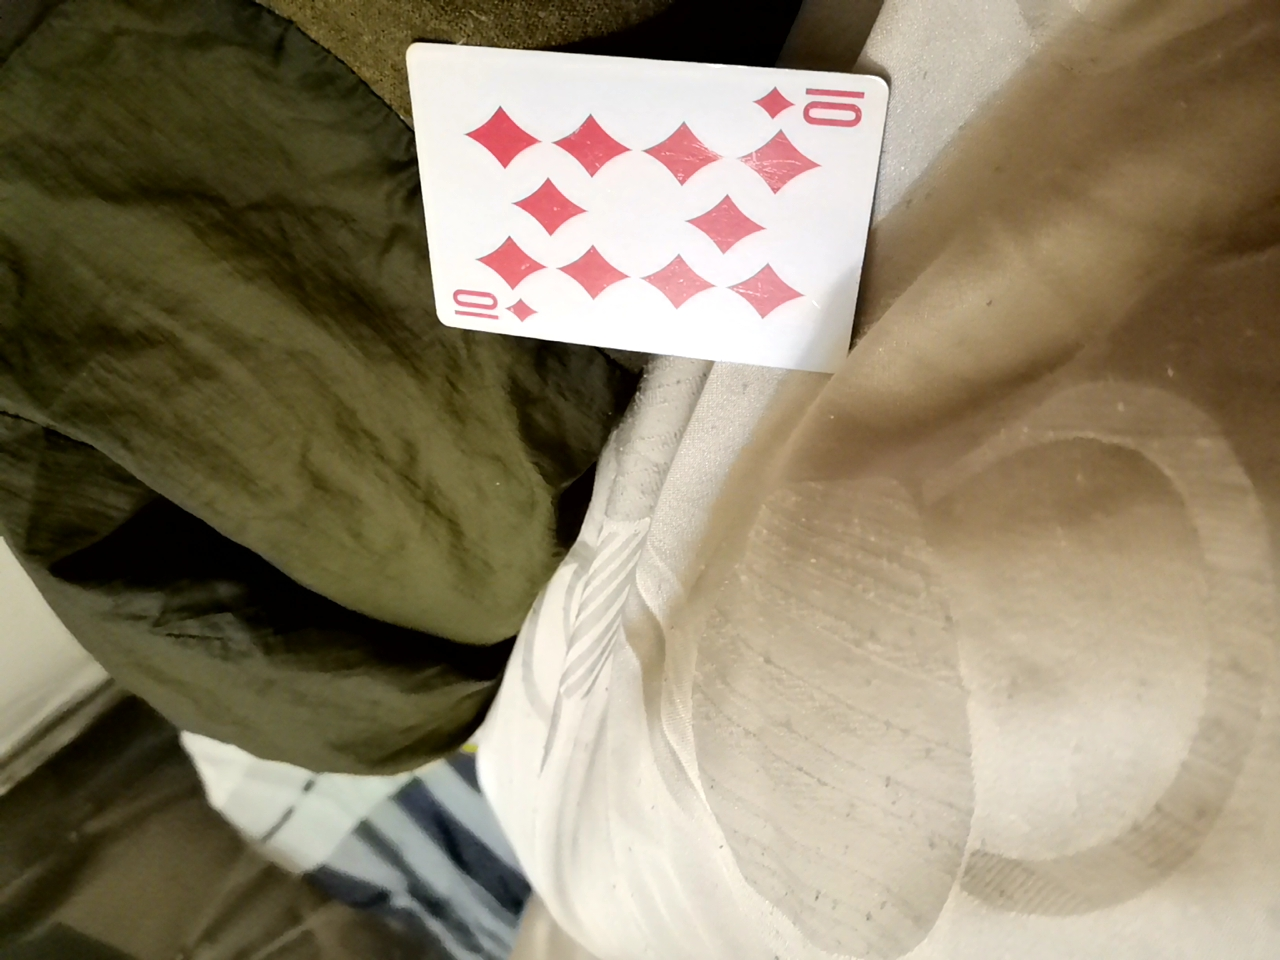fk 10: (395, 48, 932, 361)
